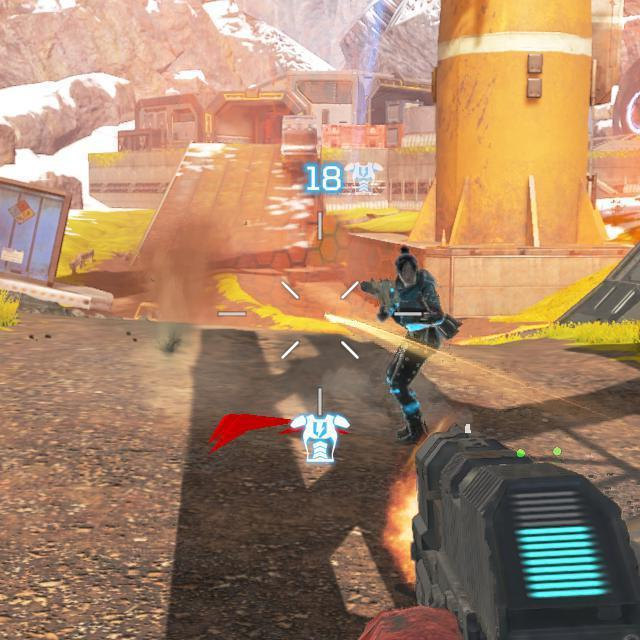avatar: (359, 245, 463, 446)
